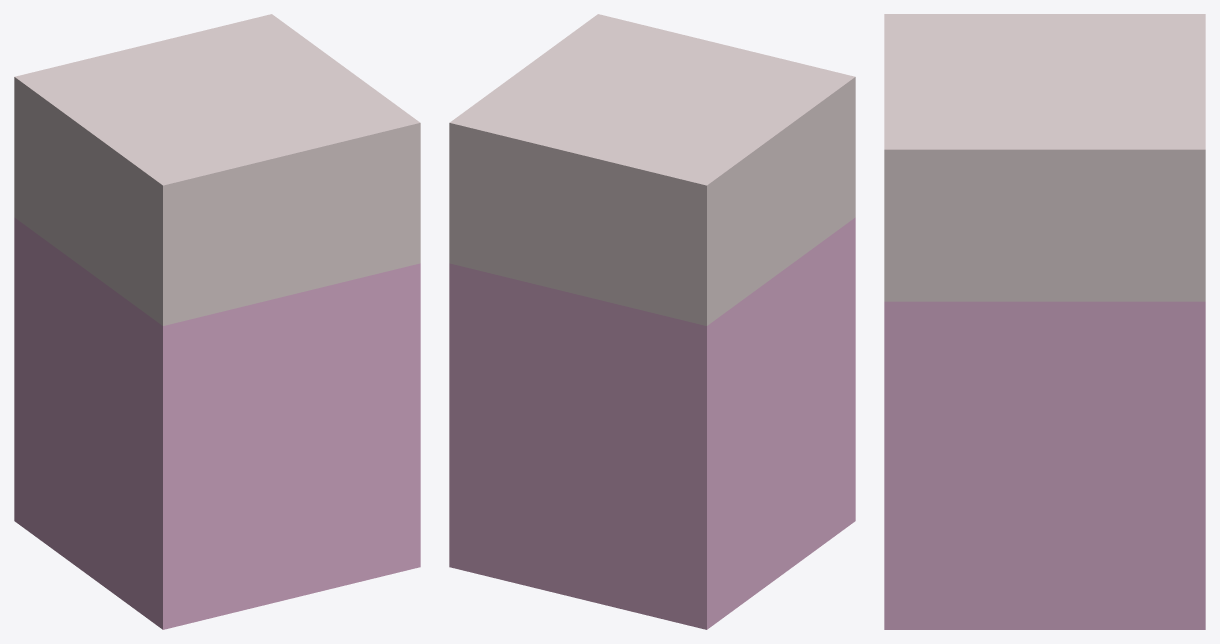
File: platform.fbx
3 views of the same model, side by side, from view 1: azimuth 30°, elevation 25°; view 2: azimuth 150°, elevation 25°; view 3: azimuth 270°, elevation 25° (orthographic). The views are drawn at different scales.
Parts seen in each view (by area): view 1: Cube, Cube.001; view 2: Cube, Cube.001; view 3: Cube, Cube.001.
Boxes of the visible parts, x1,y1,x2,y2 form: Cube: (14, 217, 420, 629); Cube.001: (14, 14, 420, 325); Cube: (449, 217, 855, 629); Cube.001: (449, 14, 855, 325); Cube: (884, 301, 1205, 629); Cube.001: (884, 14, 1205, 301).
Size of the model in its own units: 200 by 330 by 200.
